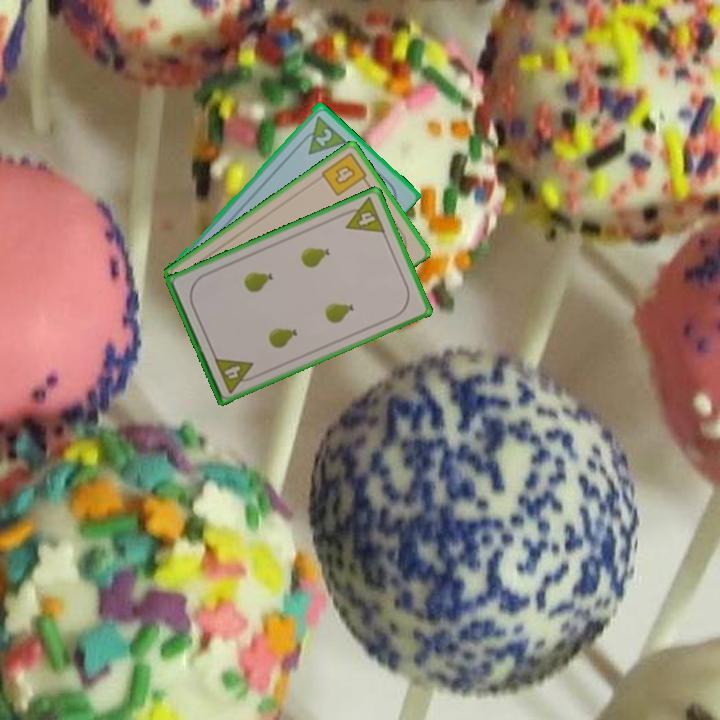2p: (311, 124, 335, 149)
4b: (318, 148, 372, 199)
4p: (337, 193, 388, 236), (211, 354, 260, 396)
